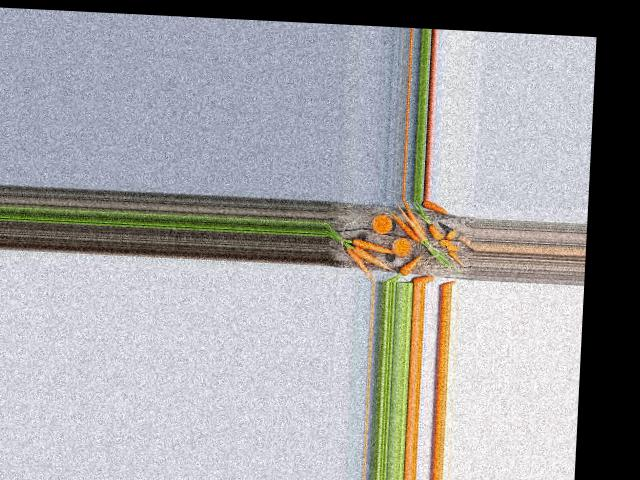carrot: (338, 245, 380, 280)
